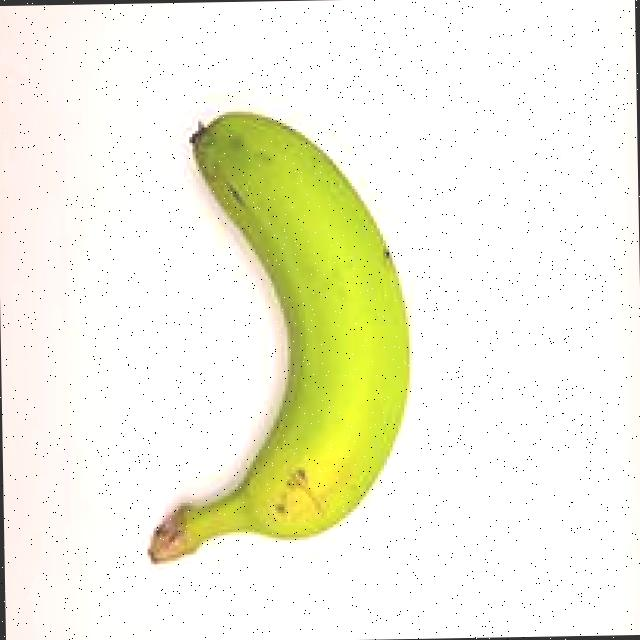Unripe: (92, 62, 447, 586)
